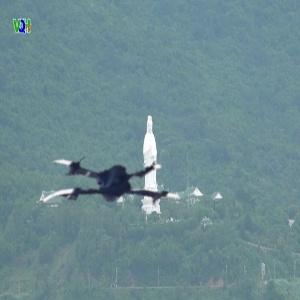drone: (41, 129, 179, 267)
